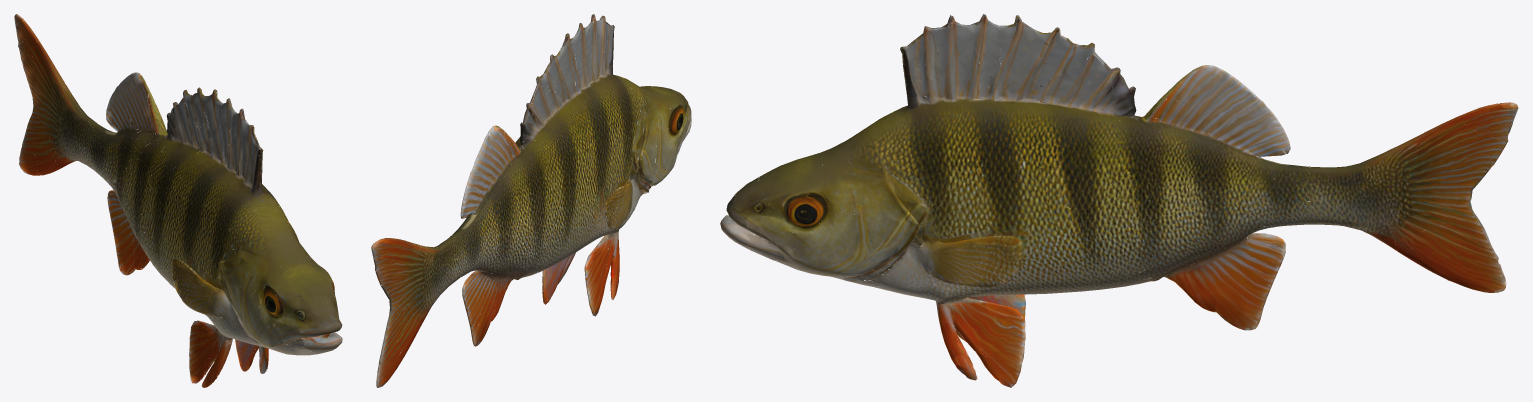
The model's file is european_perch.glb.
The picture shows the model from 3 angles, left to right: view 1: azimuth 30°, elevation 25°; view 2: azimuth 150°, elevation 25°; view 3: azimuth 270°, elevation 25°; orthographic projection. The views are drawn at different scales.
Visible parts, largest first — view 1: tripo_node_c342f046-2d56-40c0-99cd-ca85c393ac30_0; view 2: tripo_node_c342f046-2d56-40c0-99cd-ca85c393ac30_0; view 3: tripo_node_c342f046-2d56-40c0-99cd-ca85c393ac30_0.
Part boxes in pixels (left/top/right/bottom): tripo_node_c342f046-2d56-40c0-99cd-ca85c393ac30_0: left=14, top=14, right=342, bottom=387; tripo_node_c342f046-2d56-40c0-99cd-ca85c393ac30_0: left=371, top=14, right=691, bottom=387; tripo_node_c342f046-2d56-40c0-99cd-ca85c393ac30_0: left=720, top=14, right=1518, bottom=387.
Size of the model in its own units: 0.0525 by 0.1733 by 0.3502.
Materials: 1 (1 with a texture image).
